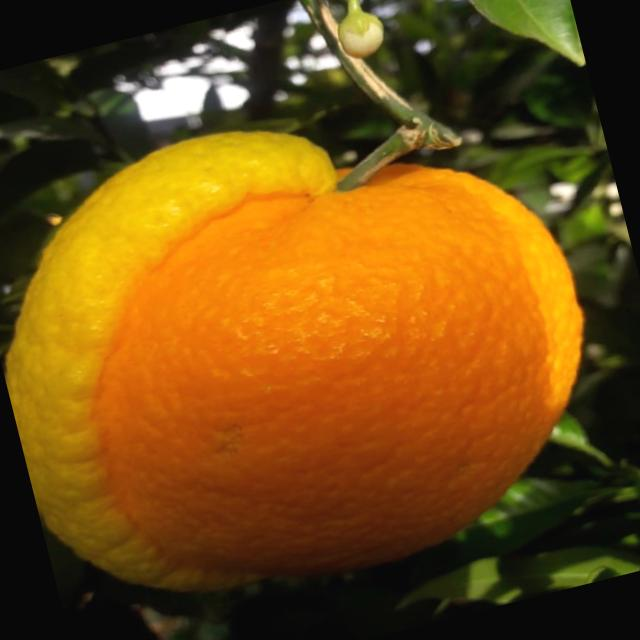orange: (18, 113, 640, 640)
